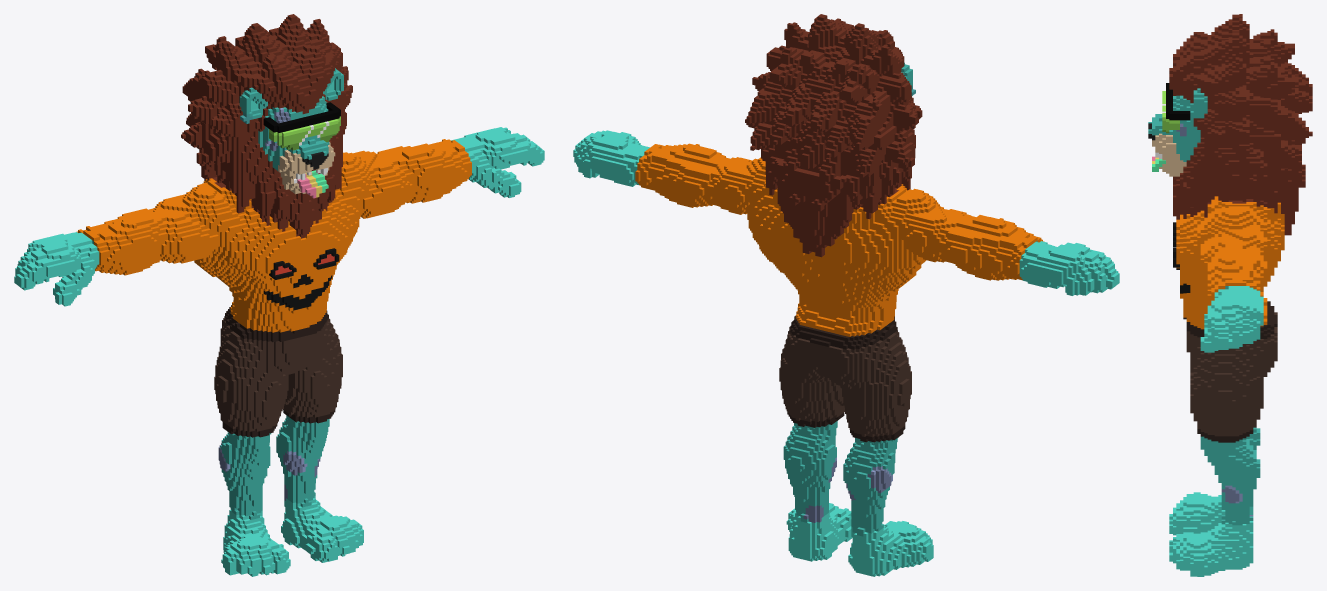
File: 909-DYen7tCd.glb
3 views of the same model, side by side, from view 1: azimuth 30°, elevation 25°; view 2: azimuth 150°, elevation 25°; view 3: azimuth 270°, elevation 25° (orthographic). The views are drawn at different scales.
Parts seen in each view (by area): view 1: rainbow_puke; view 2: rainbow_puke; view 3: rainbow_puke.
Part boxes in pixels (x1,y1,x2,y2): rainbow_puke: (14, 14, 544, 576); rainbow_puke: (573, 14, 1119, 576); rainbow_puke: (1148, 14, 1312, 576).
Bounding box in the file's own units: 17.2 × 16.5 × 4.7.
Materials: 6 (6 with a texture image).
